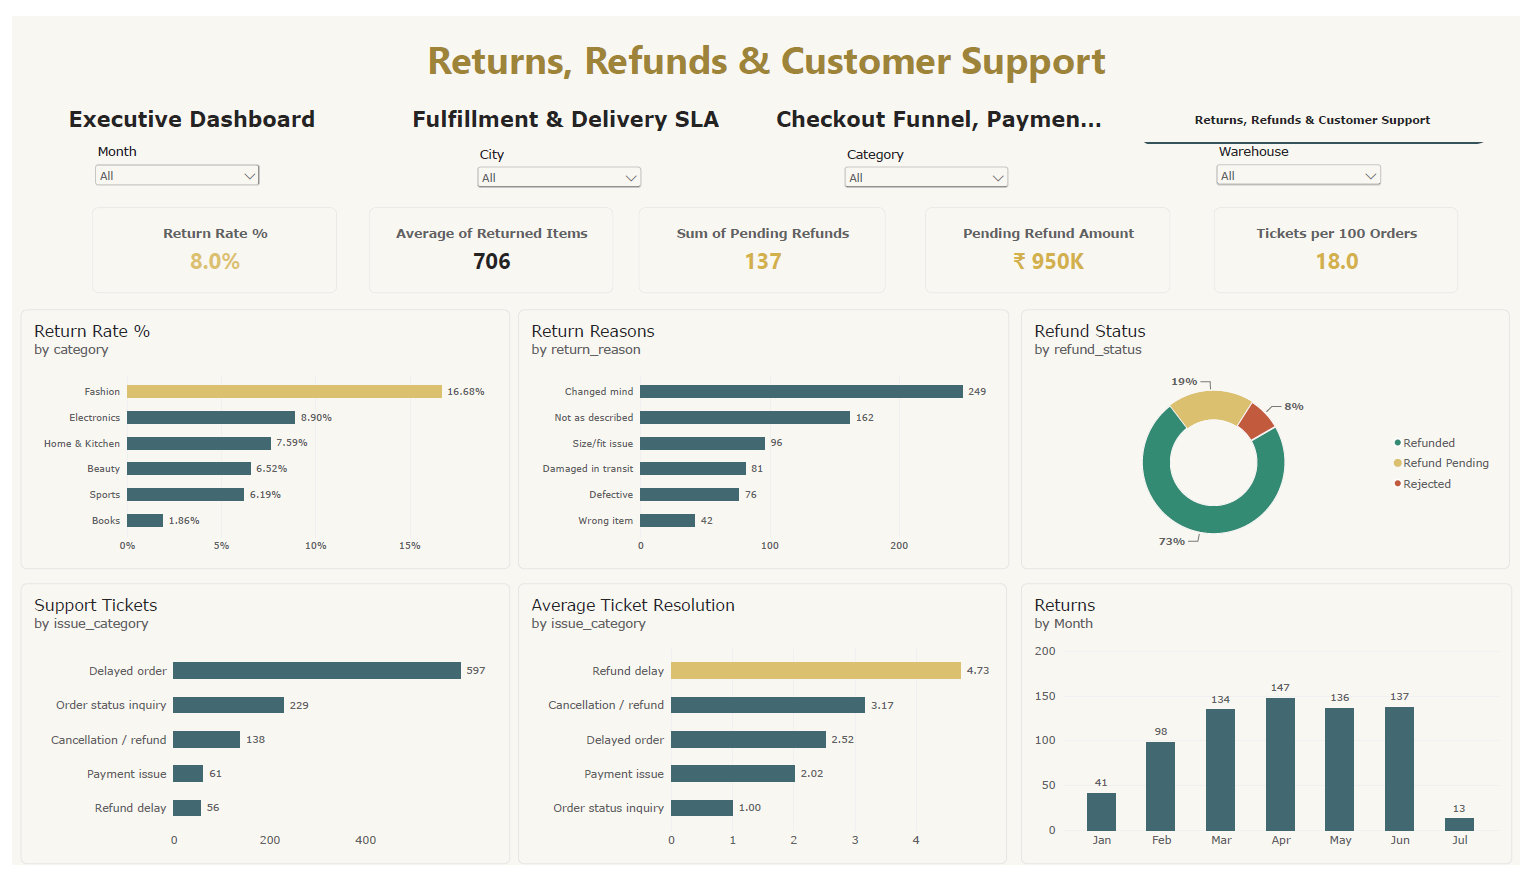

The page's visual inventory and layout, read from the dashboard file:
{"tool":"powerbi","page":{"name":"Returns, Refunds & Customer Support","canvas":[1920,1080],"ordinal":3},"visuals":[{"type":"textbox","box":[9.5,21.5,1901.6,78.7],"z":0},{"type":"clusteredBarChart","fields":{"Category":["returns.return_reason"],"Y":["CountNonNull(returns.Returned Items)"]},"box":[643.7,372.5,625.9,332],"z":1000},{"type":"donutChart","fields":{"Category":["returns.refund_status"],"Y":["CountNonNull(returns.Returned Items)"]},"box":[1284.8,372.5,623.4,332],"z":2000},{"type":"clusteredBarChart","fields":{"Category":["support_tickets.issue_category"],"Y":["support_tickets.Support Tickets"]},"box":[10.1,722.2,623.4,357.3],"z":3000},{"type":"clusteredBarChart","fields":{"Category":["support_tickets.issue_category"],"Y":["Avg(support_tickets.Resolution Days)"]},"box":[643.7,722.2,623.4,357.3],"z":4000},{"type":"cardVisual","fields":{"Data":["returns.Return Rate %"]},"box":[101.4,243.3,311.7,109],"z":5000},{"type":"cardVisual","fields":{"Data":["Avg(returns.Returned Items)"]},"box":[453.6,243.3,311.7,109],"z":6000},{"type":"cardVisual","fields":{"Data":["Sum(returns.Pending Refunds)"]},"box":[798.3,243.3,314.2,109],"z":7000},{"type":"cardVisual","fields":{"Data":["support_tickets.Tickets per 100 Orders"]},"box":[1530.6,243.3,311.7,109],"z":8000},{"type":"cardVisual","fields":{"Data":["returns.Pending Refund Amount"]},"box":[1163.2,243.3,311.7,109],"z":9000},{"type":"clusteredBarChart","fields":{"Category":["products.category"],"Y":["returns.Return Rate %"]},"box":[10.1,372.5,623.4,332],"z":10000},{"type":"clusteredColumnChart","fields":{"Category":["returns.Return Month"],"Y":["CountNonNull(returns.Returned Items)"]},"box":[1284.8,722.2,625.9,357.3],"z":11000},{"type":"slicer","fields":{"Values":["Date.Month"]},"box":[100.2,162.2,219.5,62],"z":11001},{"type":"slicer","fields":{"Values":["customers.city"]},"box":[586.9,164.6,219.5,62],"z":11002},{"type":"slicer","fields":{"Values":["products.category"]},"box":[1054.6,164.6,219.5,62],"z":11003},{"type":"slicer","fields":{"Values":["shipments.warehouse"]},"box":[1529.4,162.2,219.5,62],"z":11004},{"type":"pageNavigator","box":[9.5,100.2,1896.8,62],"z":11005}]}

Visuals, with their boxes in screenshot pixels (x1, y1, x2, y2), scaled from the page's 1920x1080 canvas onto the 1534x877 screenshot:
textbox: region(8, 17, 1527, 81)
clusteredBarChart - returns.return_reason x CountNonNull(returns.Returned Items): region(514, 302, 1014, 572)
donutChart - returns.refund_status x CountNonNull(returns.Returned Items): region(1027, 302, 1525, 572)
clusteredBarChart - support_tickets.issue_category x support_tickets.Support Tickets: region(8, 586, 506, 876)
clusteredBarChart - support_tickets.issue_category x Avg(support_tickets.Resolution Days): region(514, 586, 1012, 876)
cardVisual - returns.Return Rate %: region(81, 198, 330, 286)
cardVisual - Avg(returns.Returned Items): region(362, 198, 611, 286)
cardVisual - Sum(returns.Pending Refunds): region(638, 198, 889, 286)
cardVisual - support_tickets.Tickets per 100 Orders: region(1223, 198, 1472, 286)
cardVisual - returns.Pending Refund Amount: region(929, 198, 1178, 286)
clusteredBarChart - products.category x returns.Return Rate %: region(8, 302, 506, 572)
clusteredColumnChart - returns.Return Month x CountNonNull(returns.Returned Items): region(1027, 586, 1527, 876)
slicer - Date.Month: region(80, 132, 255, 182)
slicer - customers.city: region(469, 134, 644, 184)
slicer - products.category: region(843, 134, 1018, 184)
slicer - shipments.warehouse: region(1222, 132, 1397, 182)
pageNavigator: region(8, 81, 1523, 132)
